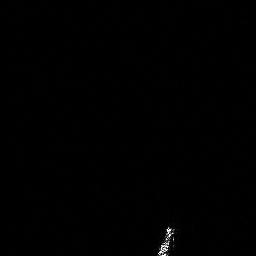ship: (153, 224, 178, 256)
